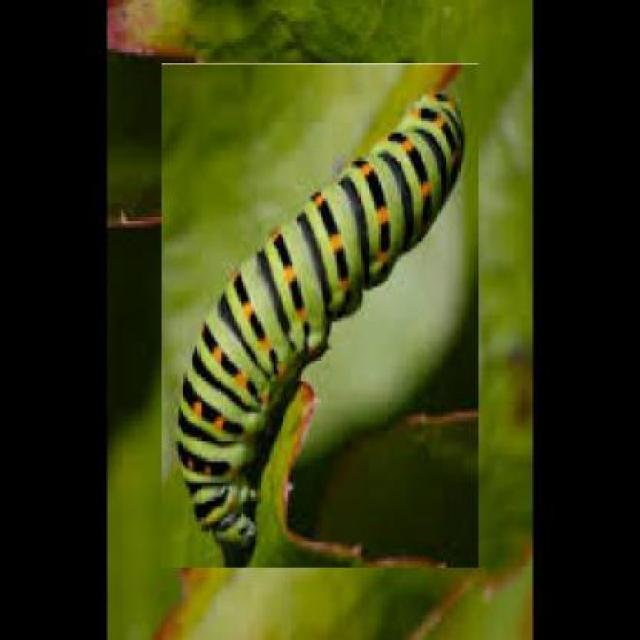Plaga: (161, 64, 481, 570)
